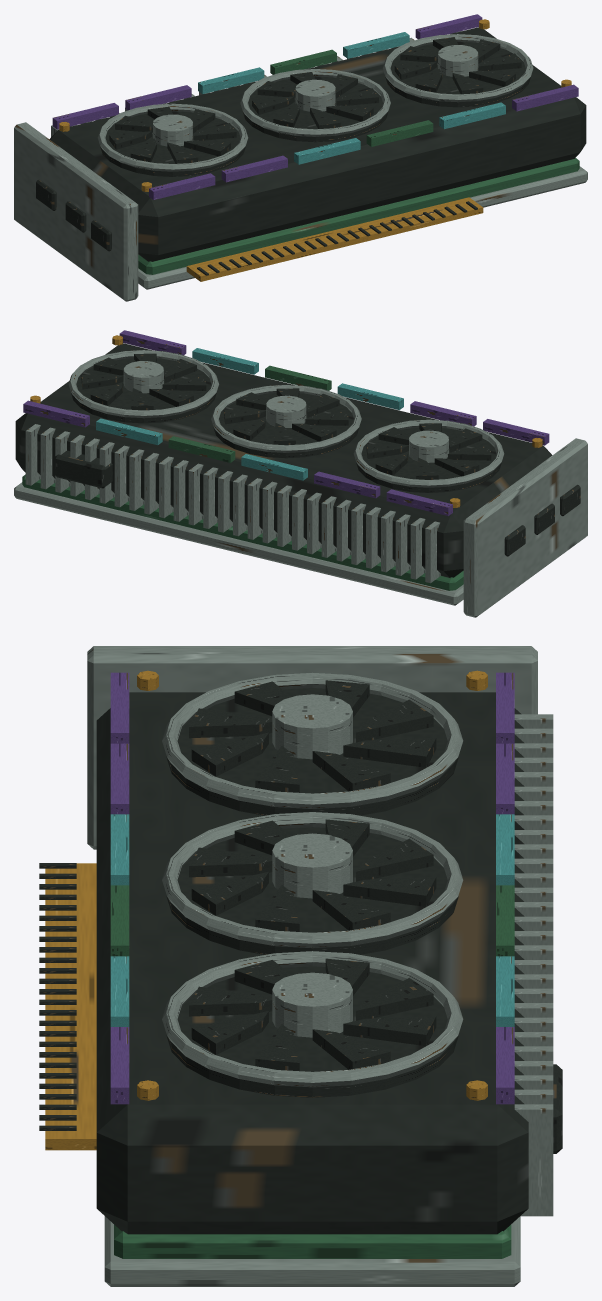
The model's file is graphics_card.obj.
3 renders of one model, top to bottom at view 1: azimuth 30°, elevation 25°; view 2: azimuth 150°, elevation 25°; view 3: azimuth 270°, elevation 25°, orthographic. The views are drawn at different scales.
Visible parts, largest first — view 1: graphics_card_MaterialGroup_01, graphics_card_MaterialGroup_02, graphics_card_MaterialGroup_00, graphics_card_MaterialGroup_05, graphics_card_MaterialGroup_03, graphics_card_MaterialGroup_04; view 2: graphics_card_MaterialGroup_02, graphics_card_MaterialGroup_01, graphics_card_MaterialGroup_03, graphics_card_MaterialGroup_00, graphics_card_MaterialGroup_04, graphics_card_MaterialGroup_05; view 3: graphics_card_MaterialGroup_01, graphics_card_MaterialGroup_02, graphics_card_MaterialGroup_00, graphics_card_MaterialGroup_05, graphics_card_MaterialGroup_03, graphics_card_MaterialGroup_04.
Part boxes in pixels (x1,y1,x2,y2): graphics_card_MaterialGroup_01: (36,27,586,275); graphics_card_MaterialGroup_02: (14,31,587,301); graphics_card_MaterialGroup_00: (138,49,579,274); graphics_card_MaterialGroup_05: (59,19,571,281); graphics_card_MaterialGroup_03: (52,14,578,199); graphics_card_MaterialGroup_04: (198,32,505,164); graphics_card_MaterialGroup_02: (14,350,587,617); graphics_card_MaterialGroup_01: (15,343,580,577); graphics_card_MaterialGroup_03: (23,330,549,515); graphics_card_MaterialGroup_00: (22,365,463,590); graphics_card_MaterialGroup_04: (96,348,403,480); graphics_card_MaterialGroup_05: (30,335,542,507); graphics_card_MaterialGroup_01: (39,680,562,1234); graphics_card_MaterialGroup_02: (87,646,553,1286); graphics_card_MaterialGroup_00: (110,885,514,1258); graphics_card_MaterialGroup_05: (45,670,487,1150); graphics_card_MaterialGroup_03: (110,672,514,1104); graphics_card_MaterialGroup_04: (110,814,514,1026).
Bounding box in the file's own units: 0.354 × 0.081 × 0.1685.
Materials: 6 (6 with a texture image).
